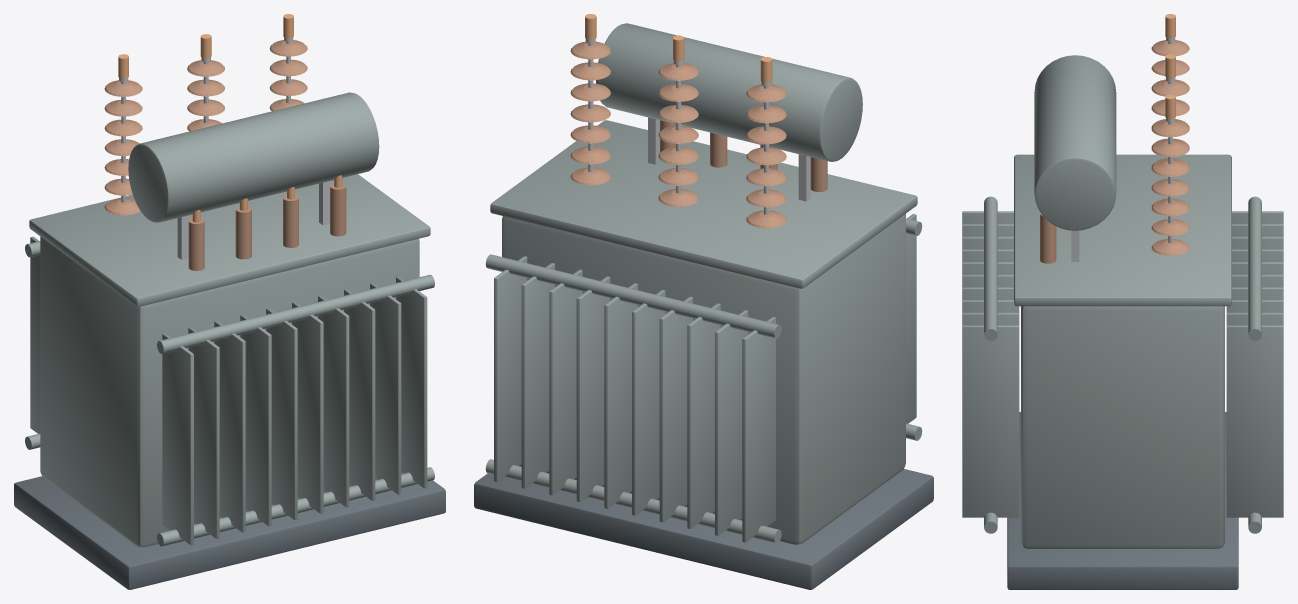
File: transformer.glb
3 renders of one model, left to right at view 1: azimuth 30°, elevation 25°; view 2: azimuth 150°, elevation 25°; view 3: azimuth 270°, elevation 25°, orthographic. The views are drawn at different scales.
Parts seen in each view (by area): view 1: Cube, Bushings; view 2: Cube, Bushings; view 3: Cube, Bushings.
Boxes of the visible parts, x1,y1,x2,y2 form: Cube: [14, 92, 445, 589]; Bushings: [104, 14, 346, 270]; Cube: [474, 23, 933, 589]; Bushings: [570, 14, 827, 228]; Cube: [962, 55, 1283, 589]; Bushings: [1040, 14, 1189, 263].
Bounding box in the file's own units: 2.7 × 3.7 × 2.36.
